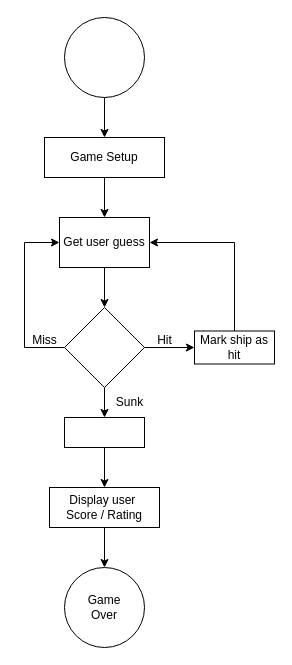
Image size: 292x665. Some labels were removed from this diagram. Each missing label, with the box of its shape:
check guess: (64, 306, 144, 388)
Mark ship as sunk: (64, 416, 144, 448)
Start: (64, 16, 144, 98)
